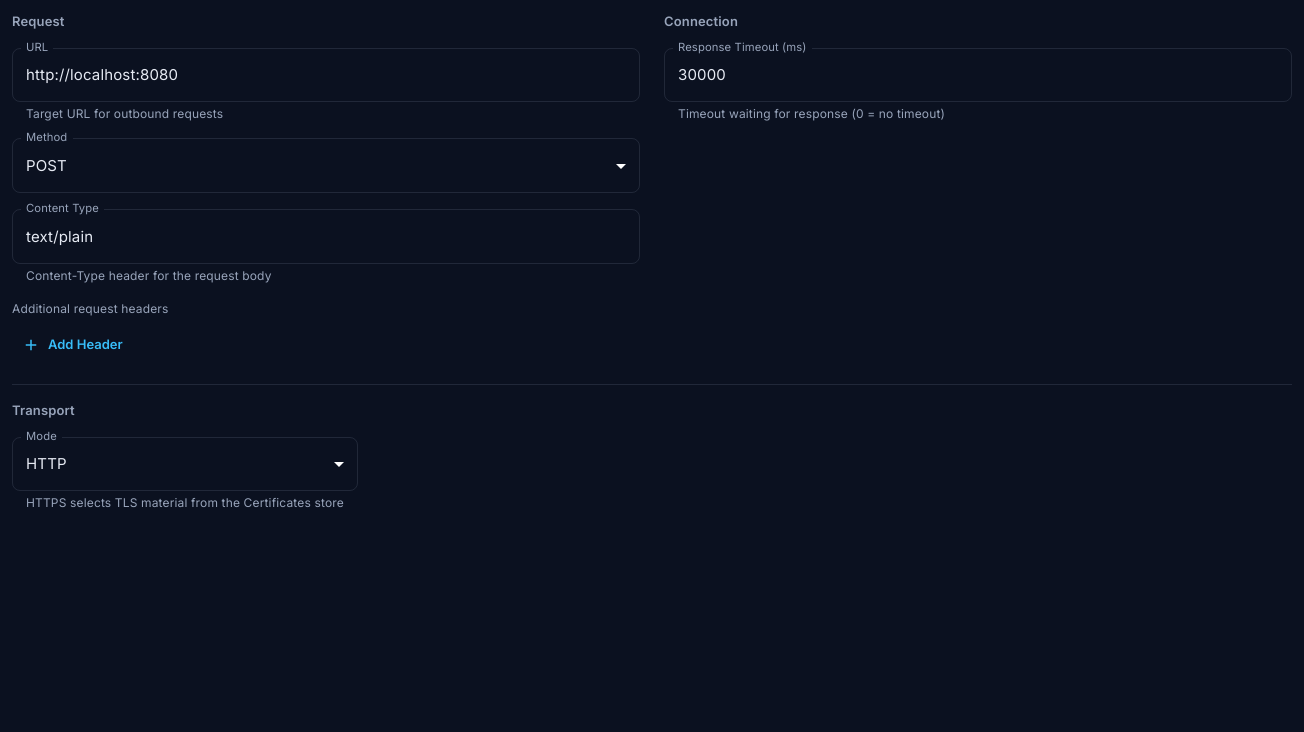
Test: HttpDestinationForm — HTTPS mode › shows pickers and sets scheme=HTTPS when Mode switches to HTTPS
The image size is (1304, 732).
Press the mouse on the dropdown named "Mode" at (46, 464), box x1=26 y1=454 x2=67 y2=473
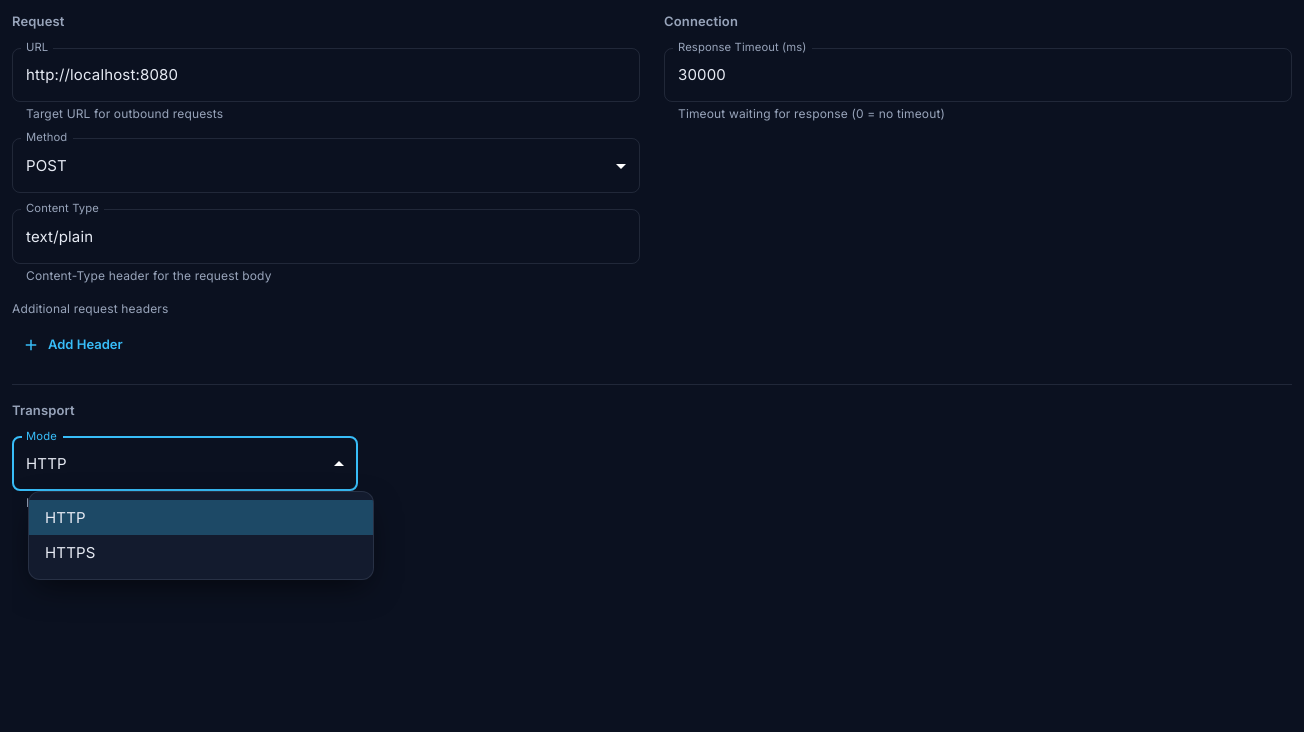
Click the option "HTTPS" at (70, 553), box x1=45 y1=543 x2=96 y2=562
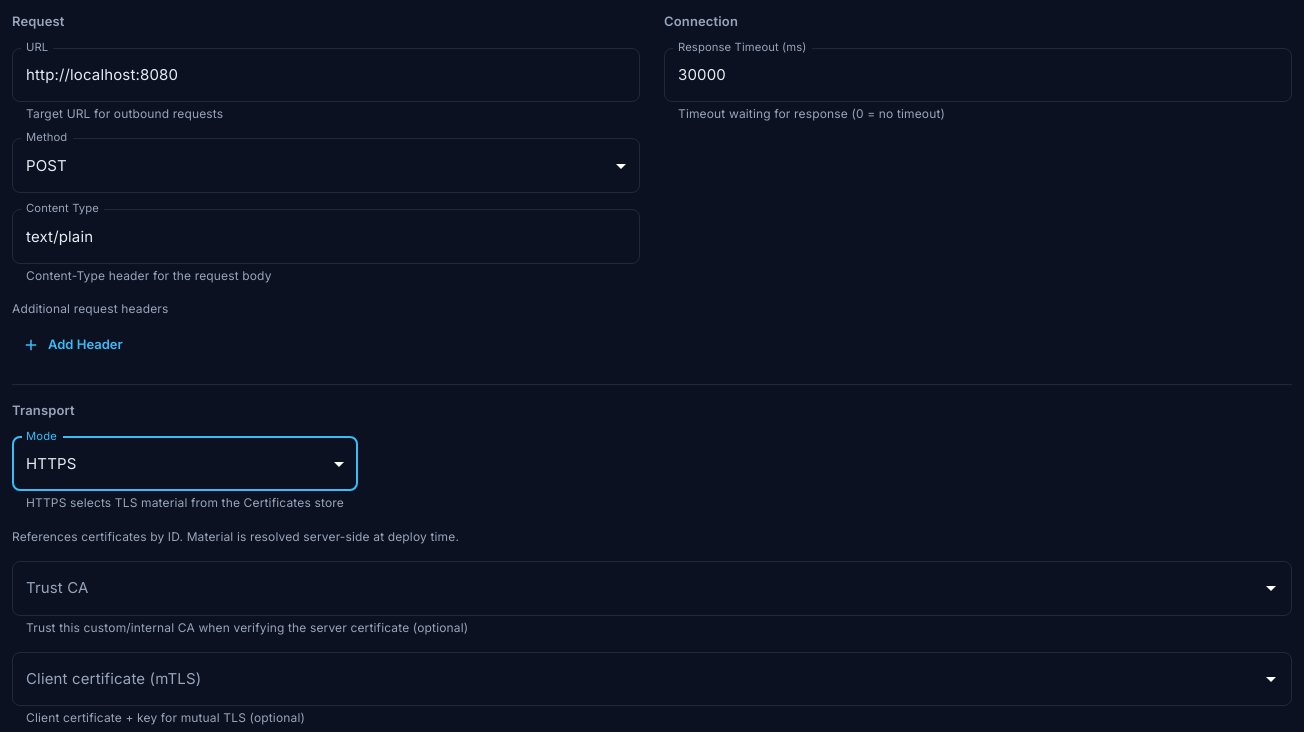
Expected: the dropdown named "Mode" reads "HTTPS", x1=26 y1=454 x2=76 y2=473
Expected: the dropdown labelled "Trust CA" is shown, x1=21 y1=570 x2=1253 y2=607
Expected: the dropdown labelled "Client certificate (mTLS)" is shown, x1=21 y1=661 x2=1253 y2=698
